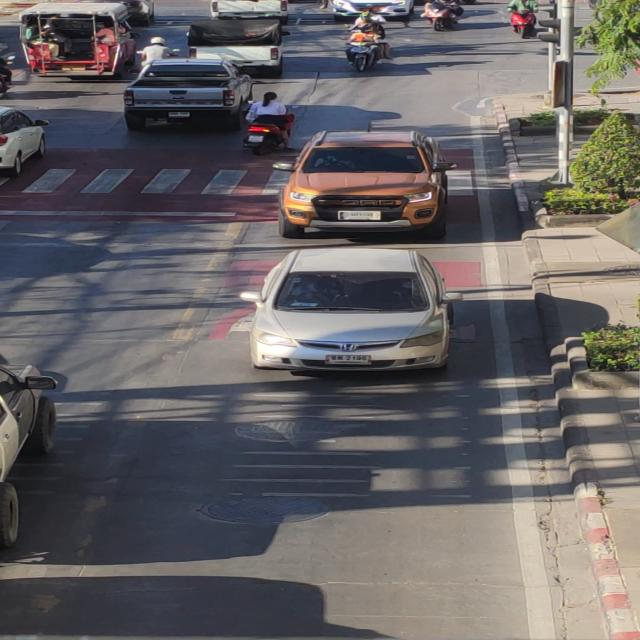car: (220, 240, 461, 375), (274, 128, 445, 231)
